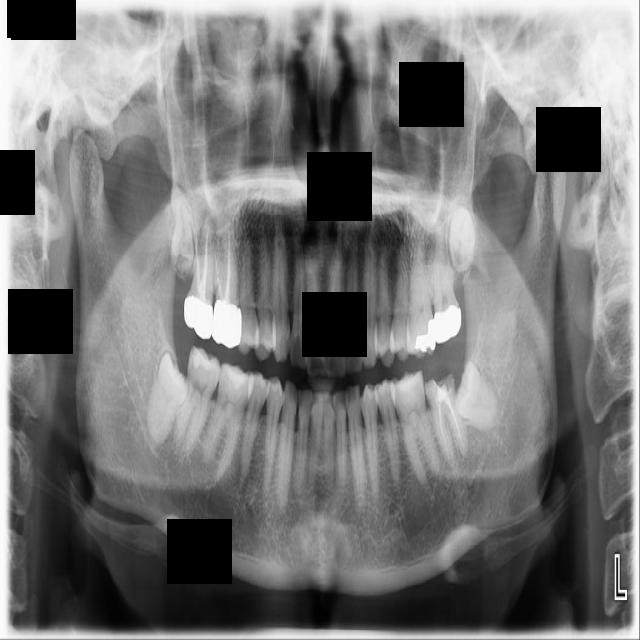3M ESPE Implant: (168, 183, 195, 276)
52: (178, 344, 228, 398), (210, 361, 259, 413), (388, 370, 430, 421), (406, 305, 436, 359), (211, 299, 242, 349), (182, 294, 214, 341), (432, 304, 463, 345)
73: (426, 387, 472, 465), (185, 213, 218, 306), (209, 213, 239, 308), (592, 572, 595, 576)
BioHorizons Implant: (431, 217, 463, 345)
BioLife Implant: (446, 207, 478, 274)
Biomet 3i Implant: (448, 359, 510, 429)
Blue Sky Bio Implant: (422, 371, 472, 465)
Caries: (184, 214, 213, 339)
Implant: (170, 344, 227, 457)
Keystone Dental Implant: (139, 351, 196, 446)
